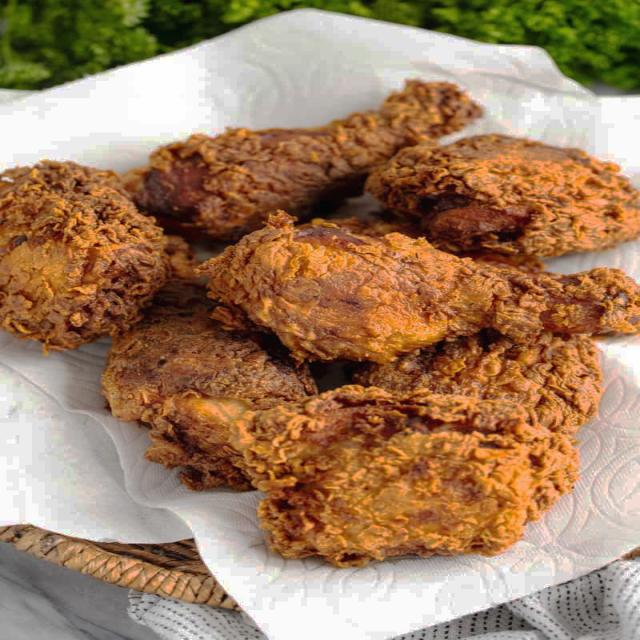fried_chicken: (171, 335, 597, 562), (200, 209, 640, 369), (146, 80, 483, 235), (106, 314, 322, 491), (0, 159, 187, 352), (373, 131, 638, 253)
